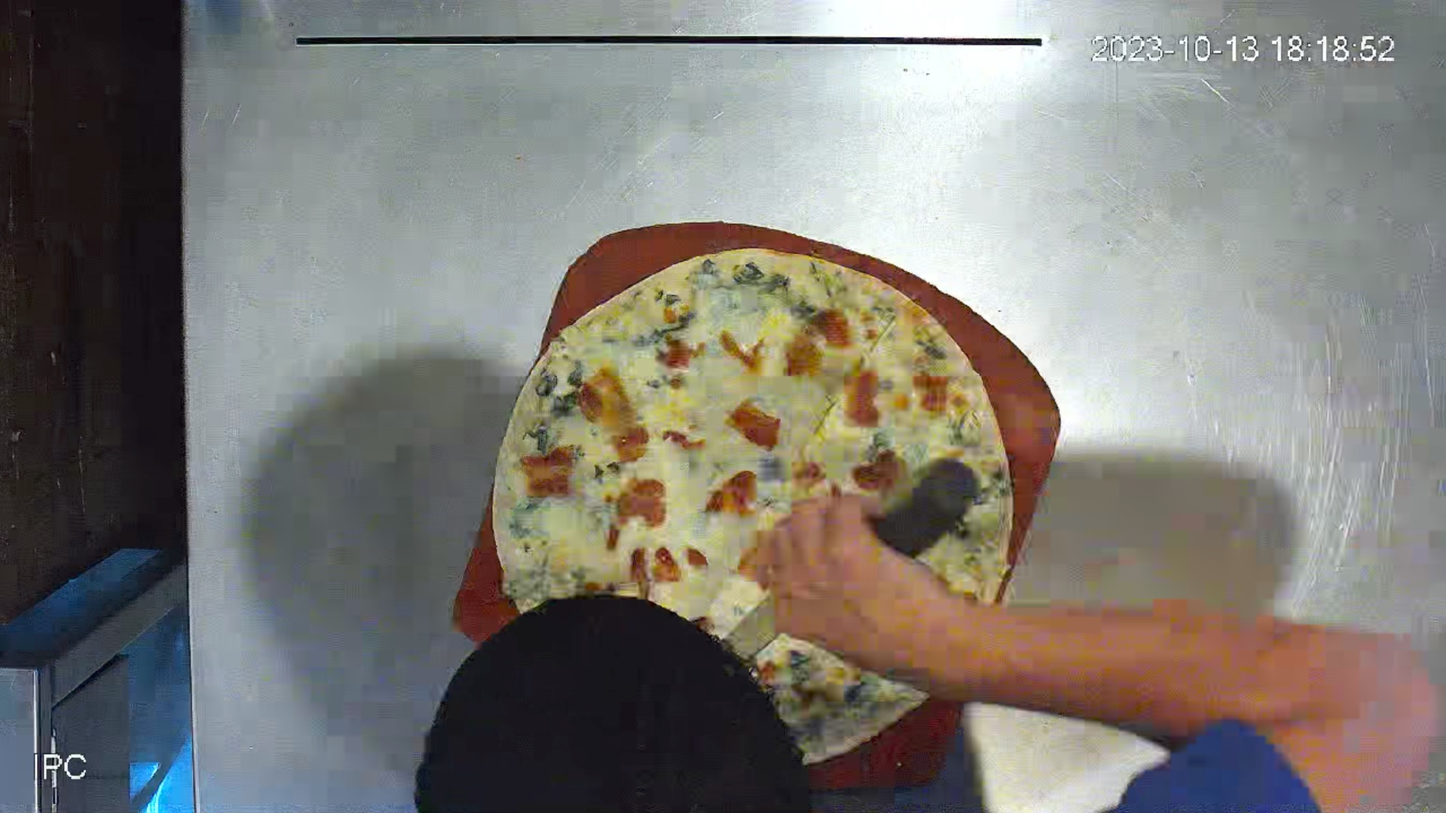bianca: (491, 237, 1016, 595)
